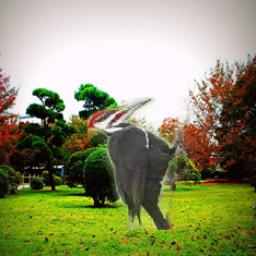Woodpecker: (88, 97, 197, 230)
